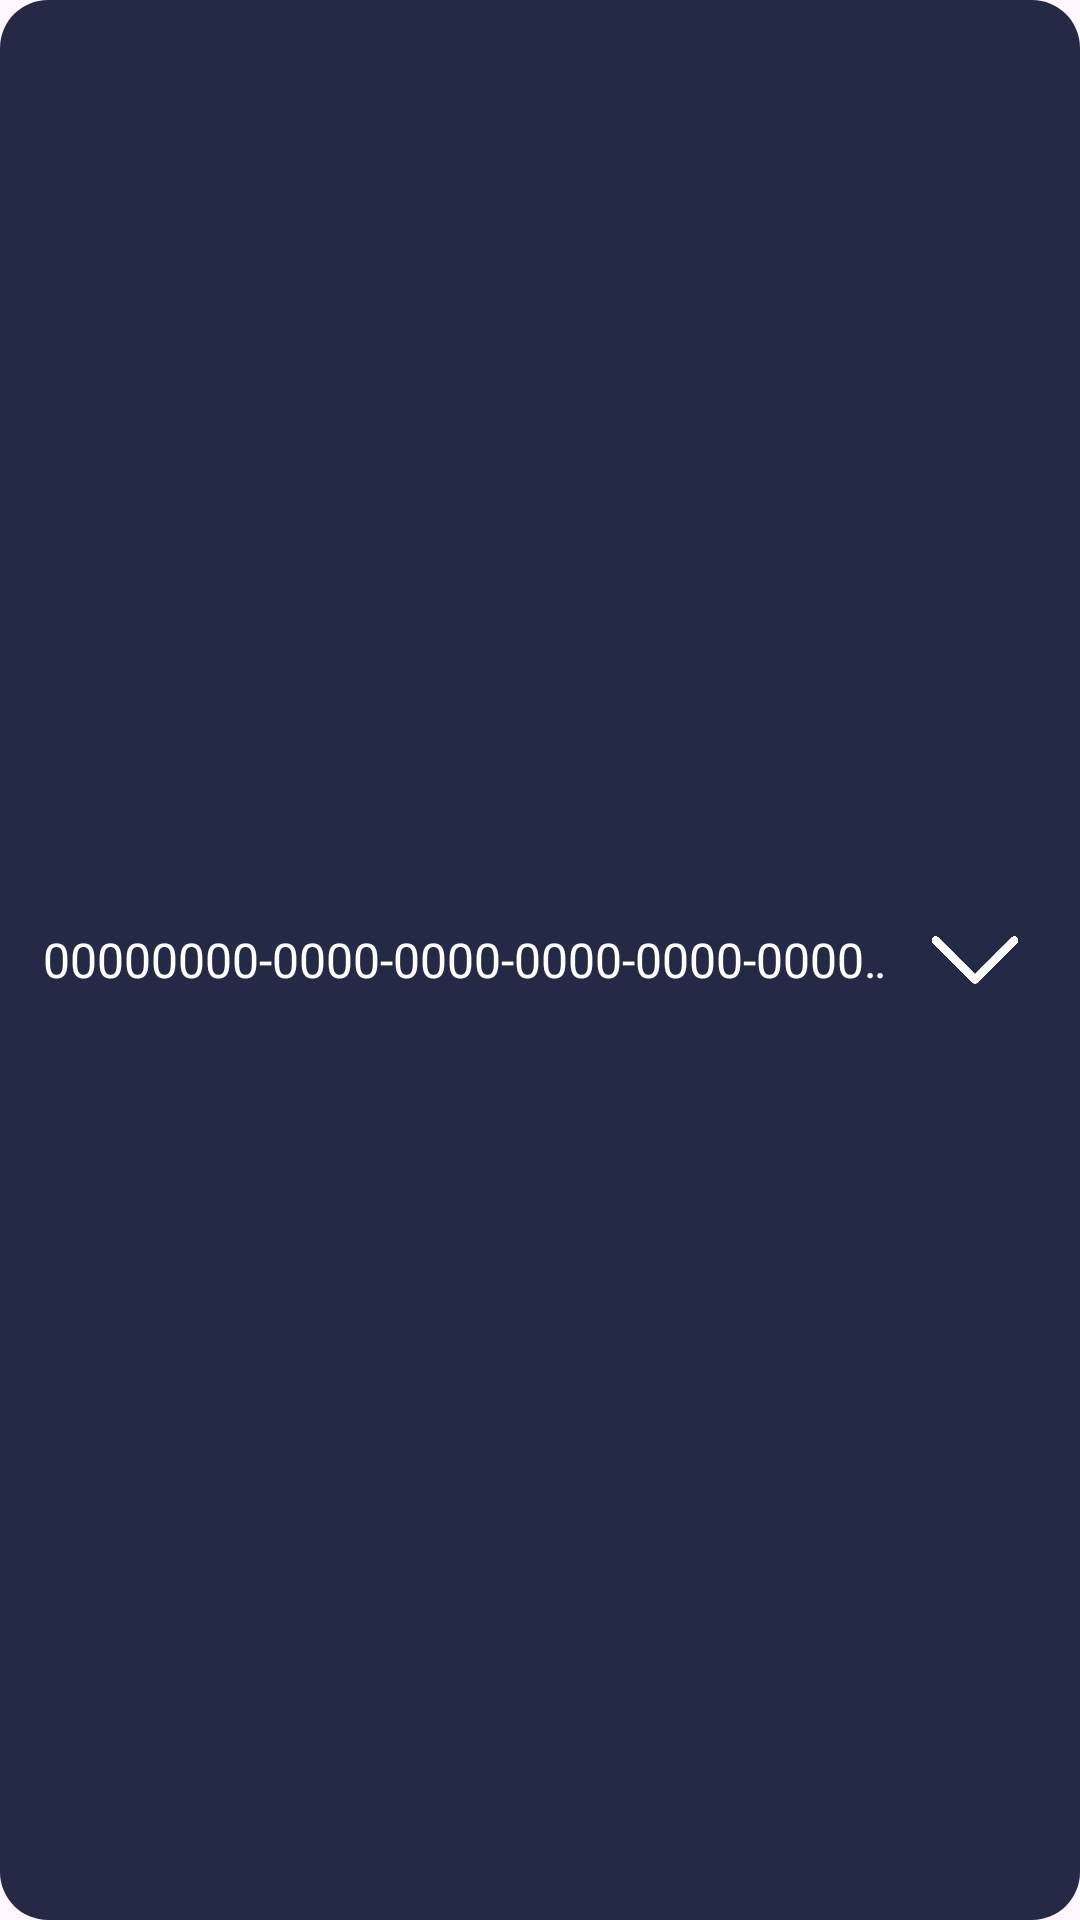

Locate icon controls on the screen. Image size 1080*1920, boxes as Rect(x1, y1, x2, y2).
Expand/collapse arrow: Rect(932, 936, 1018, 984)
